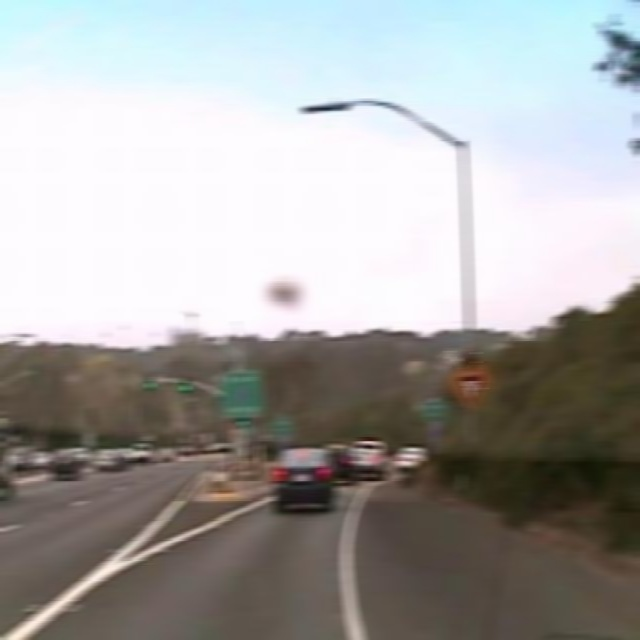yieldAhead: (448, 348, 491, 410)
